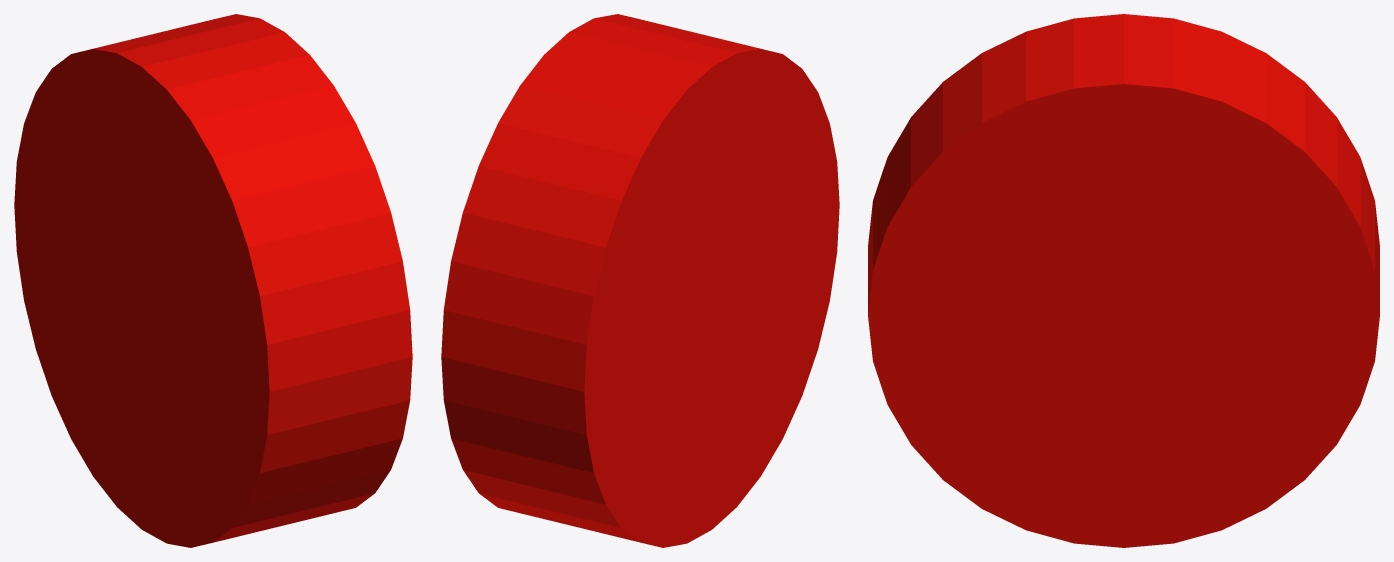
Rendered from button.glb.
3 renders of one model, left to right at view 1: azimuth 30°, elevation 25°; view 2: azimuth 150°, elevation 25°; view 3: azimuth 270°, elevation 25°, orthographic.
Parts seen in each view (by area): view 1: Cylinder; view 2: Cylinder; view 3: Cylinder.
Boxes of the visible parts, x1,y1,x2,y2 form: Cylinder: [14, 14, 412, 547]; Cylinder: [441, 14, 839, 547]; Cylinder: [868, 14, 1379, 547].
Bounding box in the file's own units: 0.0162 × 0.05 × 0.05.
